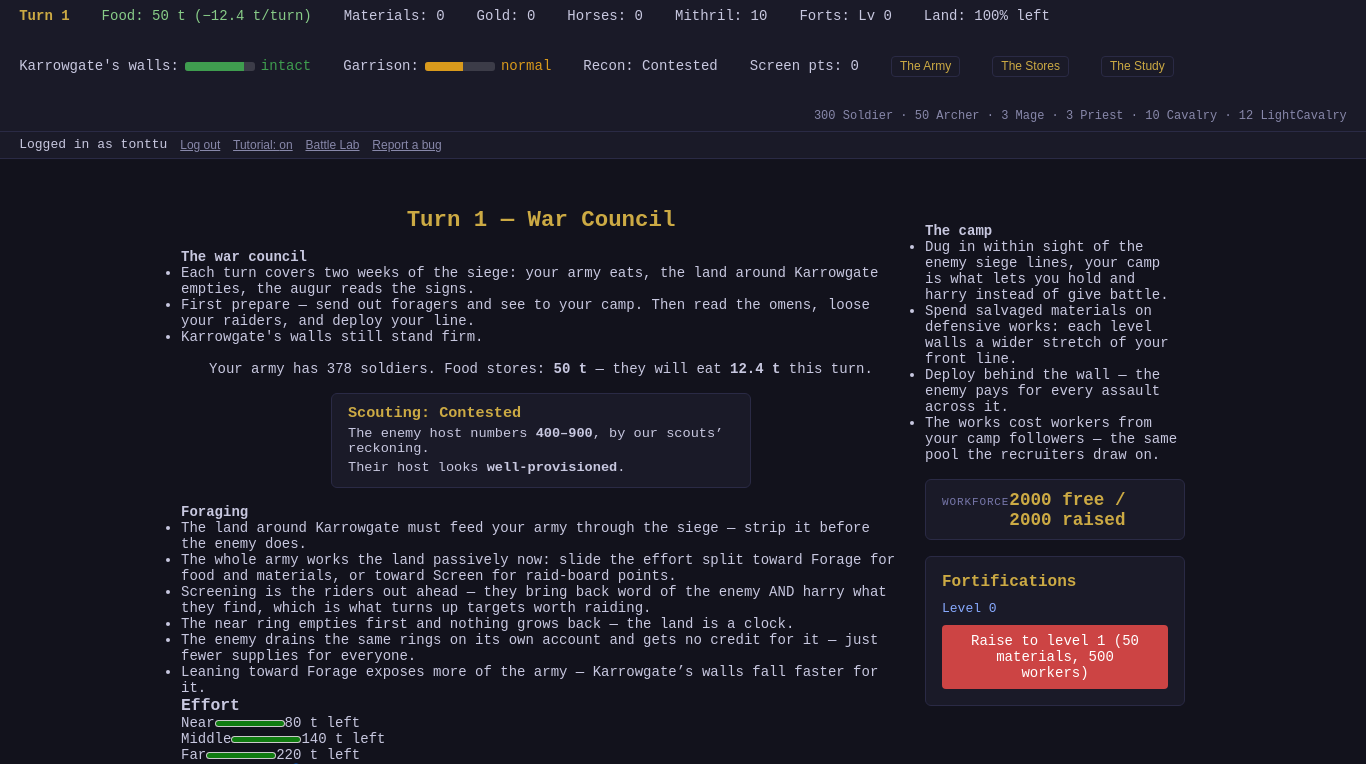
Test case: character panel › names the living and says where each of them stands
Expected: the heading "Turn 1 — War Council" is shown, [407,207,675,233]
Click the button with test id "hud-army". click: (926, 66)
box: [891,56,960,77]
(page scrolled)
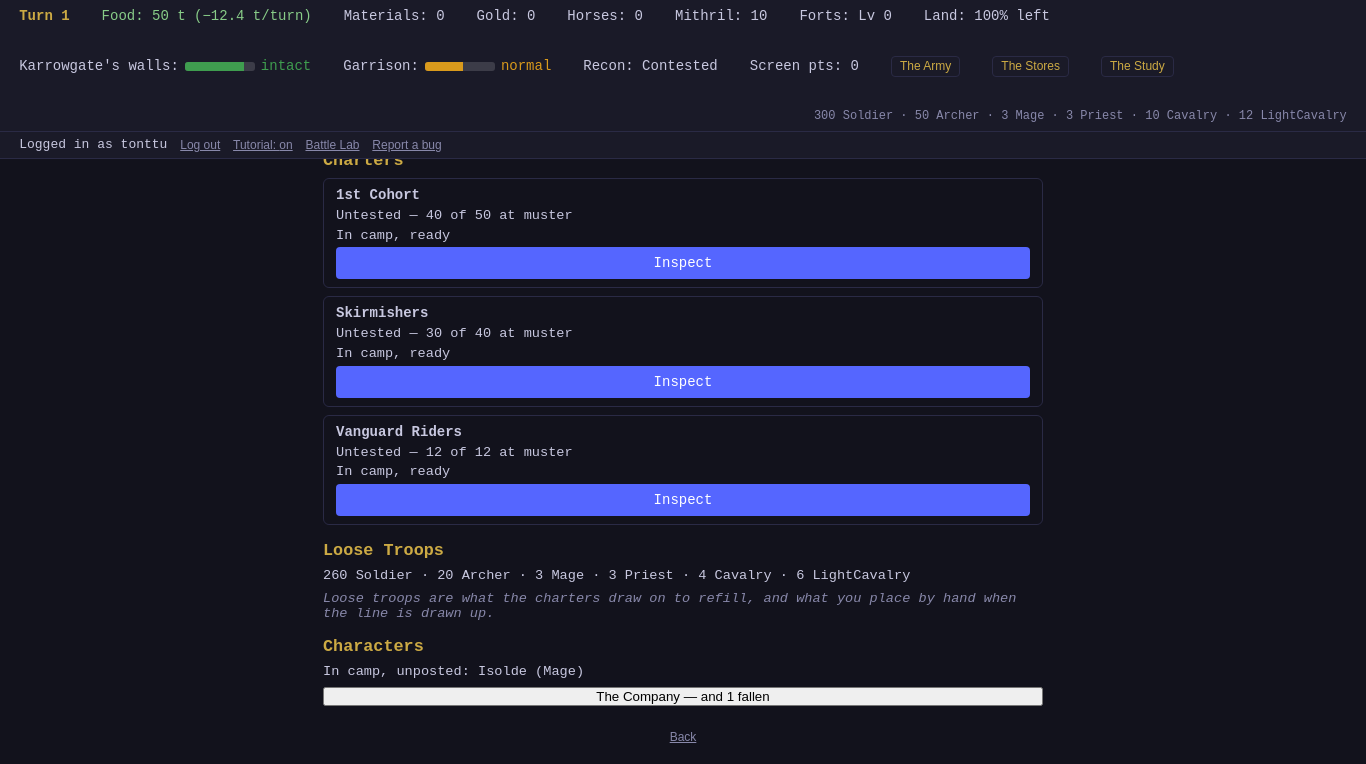
Now the element with test id "squad-roll" is shown, box [323,159,1043,706]
Click the button with test id "roll-to-company". click: (683, 697)
box: [323,687,1043,706]
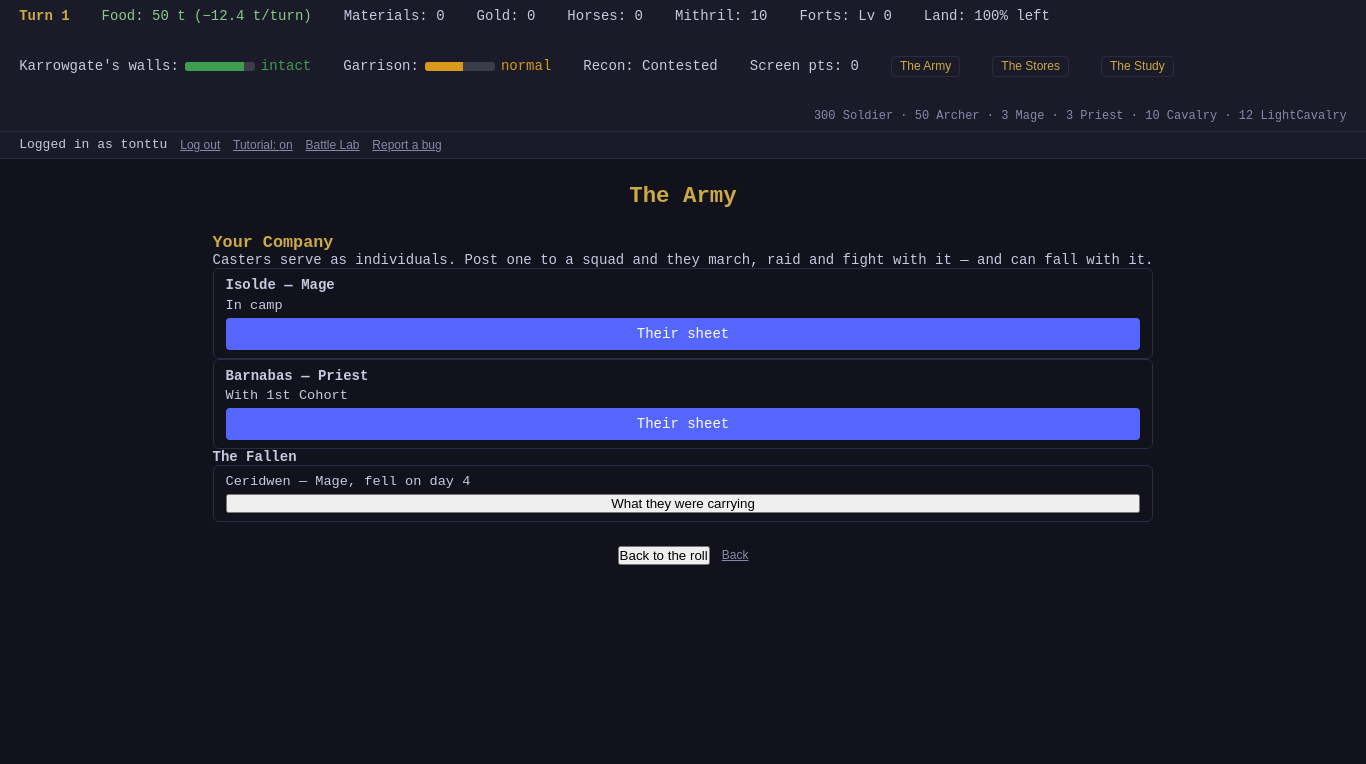
Now the text with test id "character-posting-1" reads "In camp", box [226,298,283,313]
Now the element with test id "character-panel" is shown, box [212,225,1154,522]
Now the element with test id "character-1" shows "Isolde", box [226,277,276,293]
